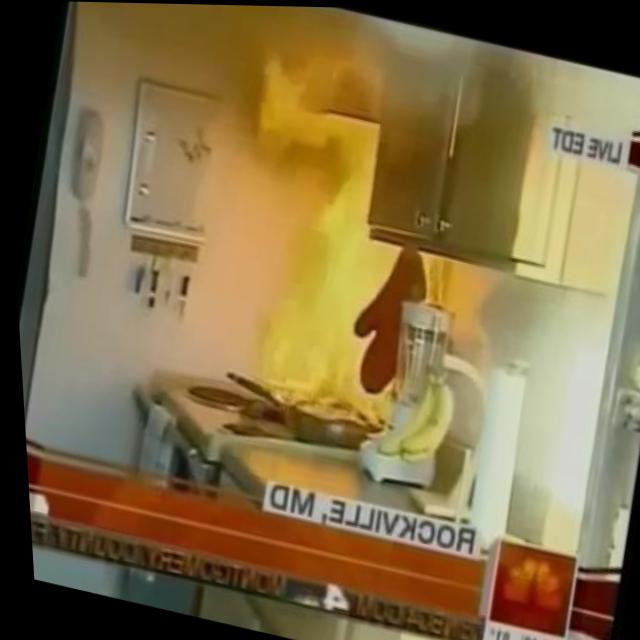fire: (189, 19, 468, 439)
